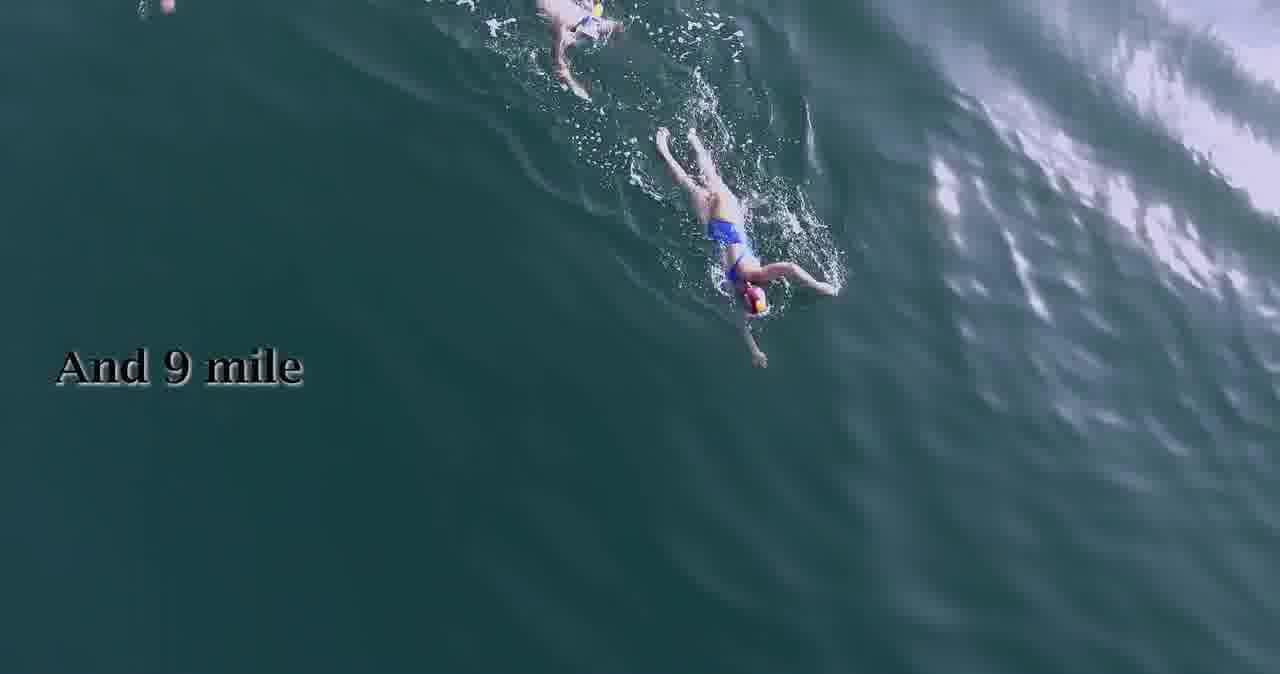human: (645, 119, 844, 368), (528, 1, 622, 108)
